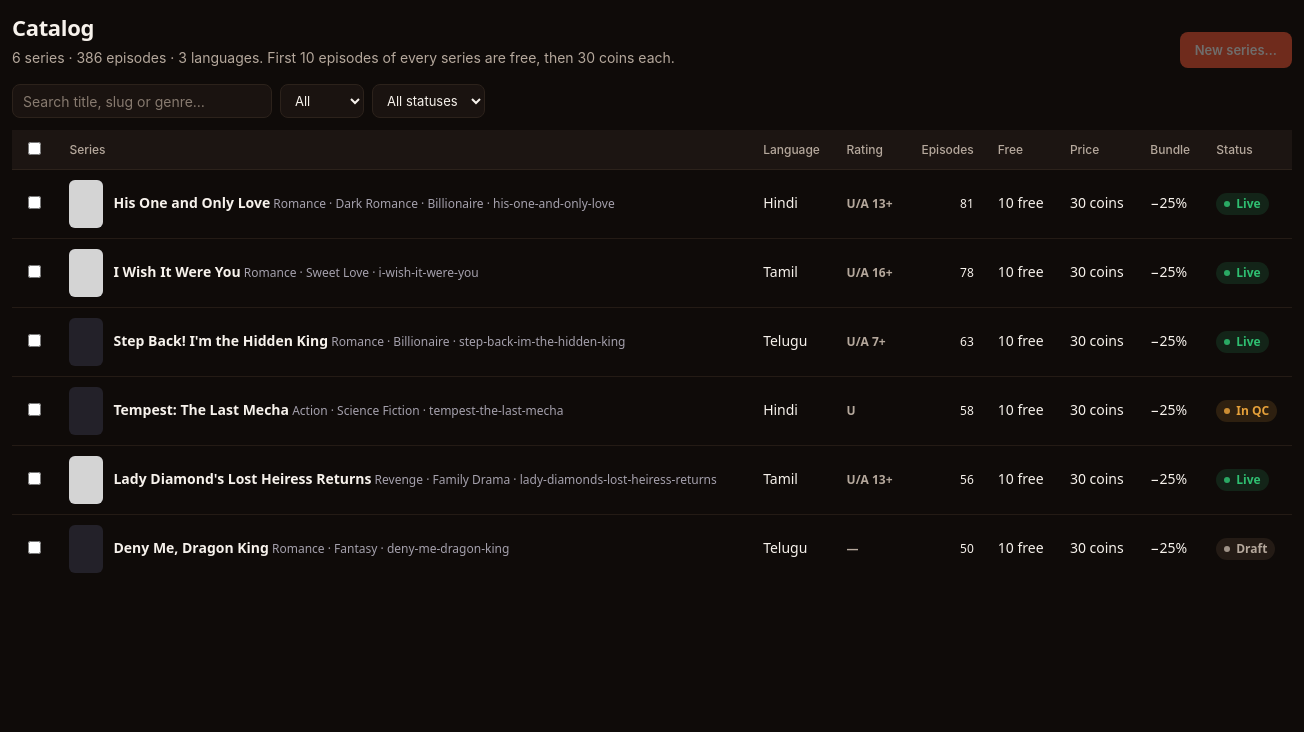
Test case: Catalog view › filters by status and renders 'unrated' for draft series
Expected: the text "His One and Only Love" is shown, [114,193,270,212]
Select "draft" in the dropdown named "Status" at (428, 101), box [372,84,485,118]
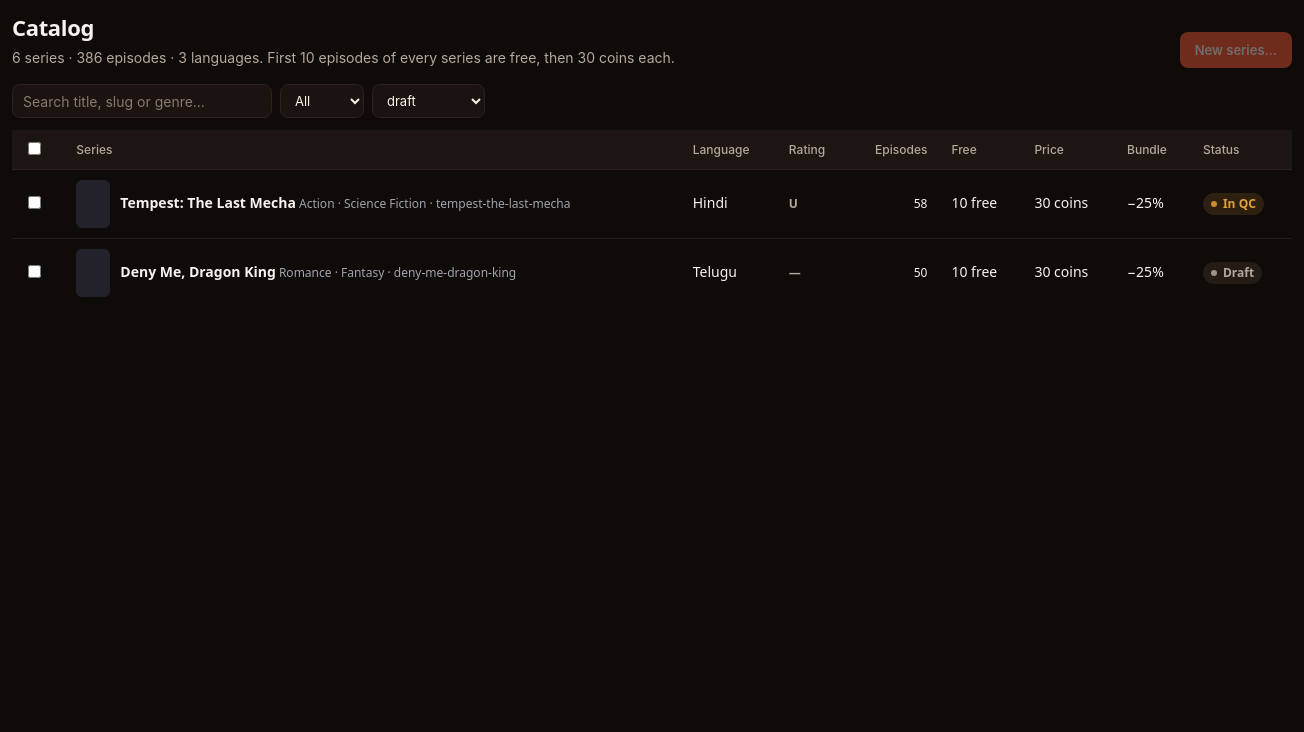
Expected: the text "Deny Me, Dragon King" is shown, [120,262,276,281]
Now the link "His One and Only Love" is gone
